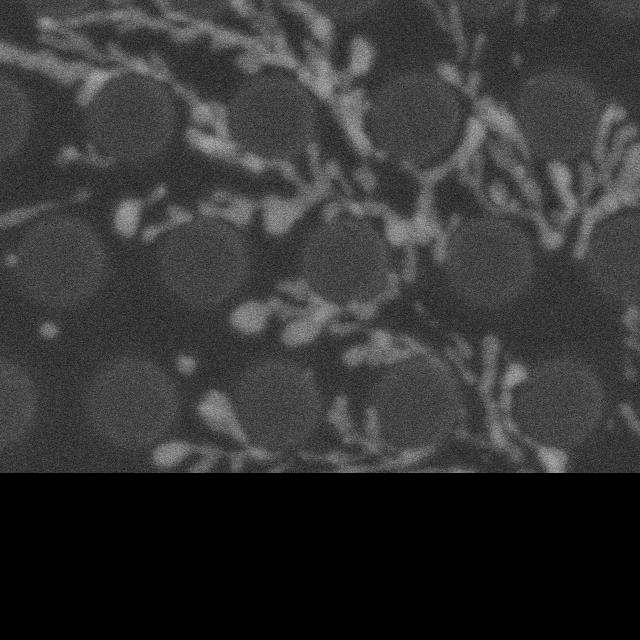Dendrite: (454, 97, 640, 261), (0, 40, 226, 135), (232, 248, 407, 367), (326, 184, 481, 282), (389, 115, 485, 246), (200, 145, 338, 236), (445, 334, 526, 462), (185, 99, 302, 183), (487, 363, 569, 473), (40, 8, 243, 49), (230, 280, 342, 345), (410, 0, 484, 93), (39, 14, 151, 73), (343, 329, 453, 378), (300, 445, 457, 473), (152, 438, 274, 473), (328, 394, 392, 459), (0, 190, 89, 230), (113, 185, 167, 238), (328, 447, 431, 473), (295, 162, 350, 207), (197, 390, 244, 441), (139, 204, 198, 242), (521, 436, 568, 473), (56, 142, 113, 168), (264, 202, 297, 232), (353, 166, 376, 189), (176, 353, 196, 375), (38, 321, 59, 340), (396, 468, 470, 473), (270, 465, 290, 473)
